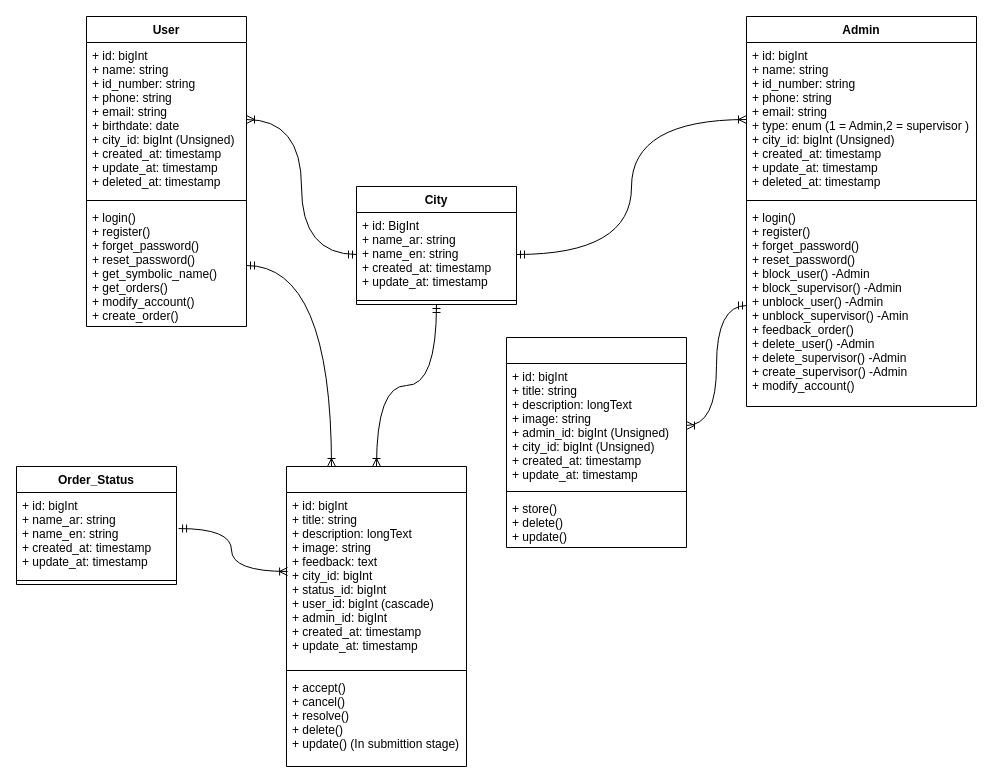
This 993x783 diagram has some shape labels left out. Each missing label, with the box of its shape:
News: (506, 336, 686, 548)
Order: (286, 466, 466, 766)
